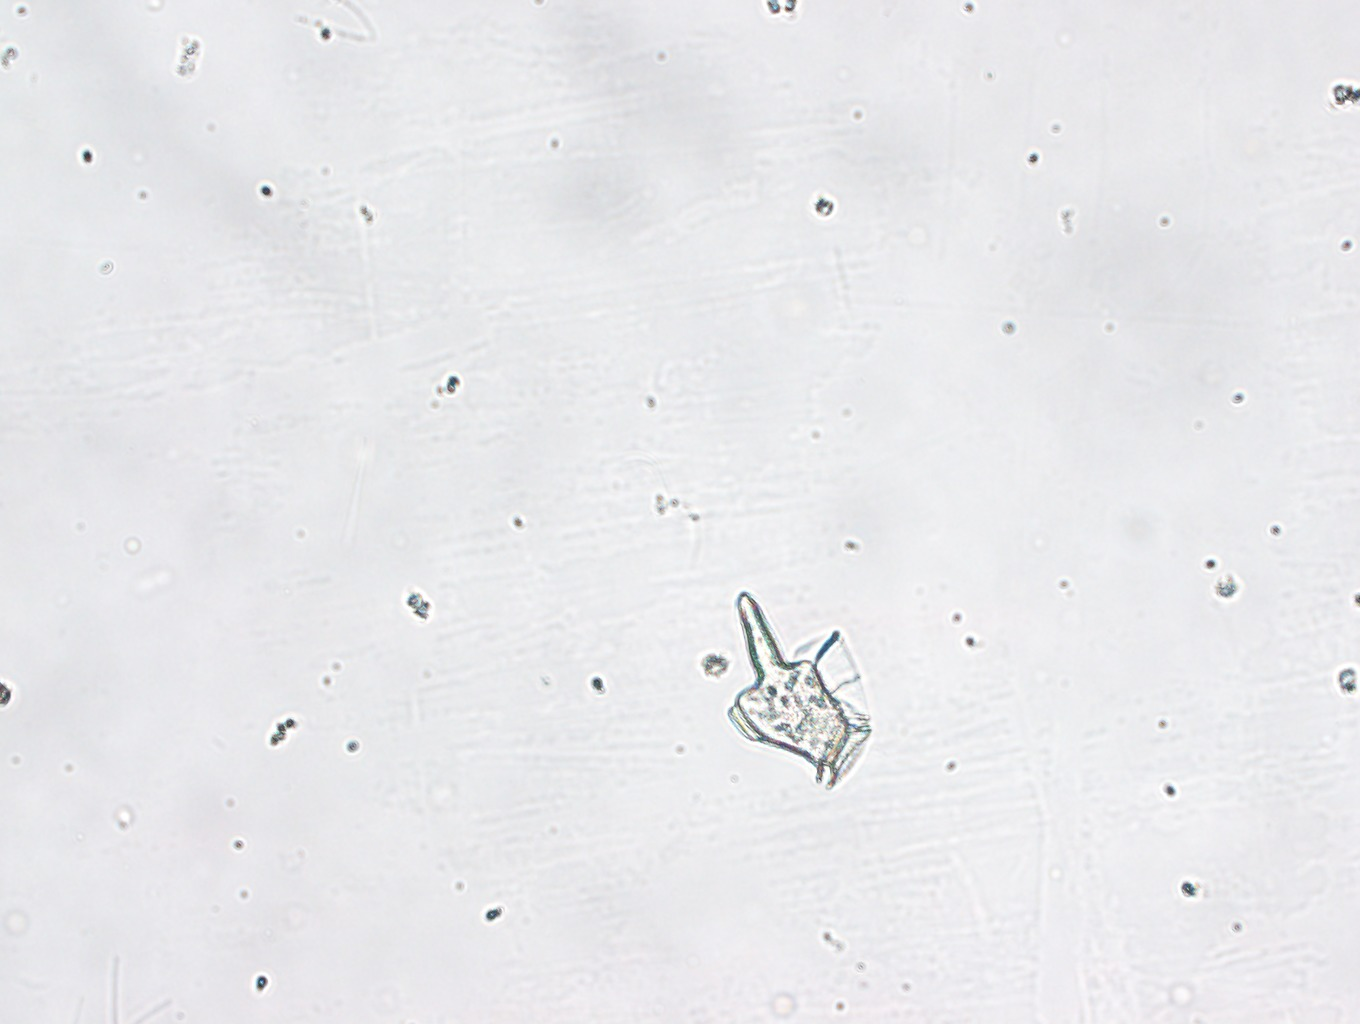dinophysis caudata: (726, 591, 871, 790)
